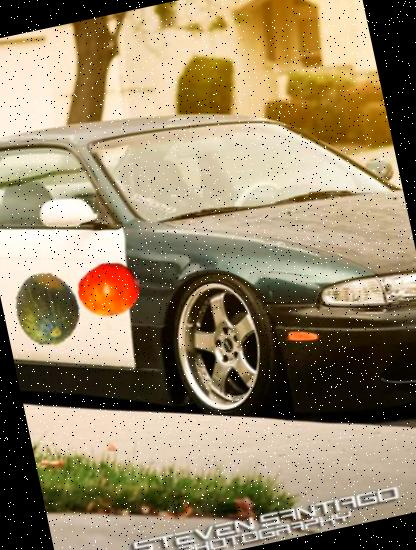Clementine: (72, 252, 148, 328)
Melon: (7, 267, 92, 352)
